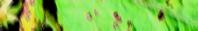Tomato leaf bacterial spot: (46, 0, 198, 31)
